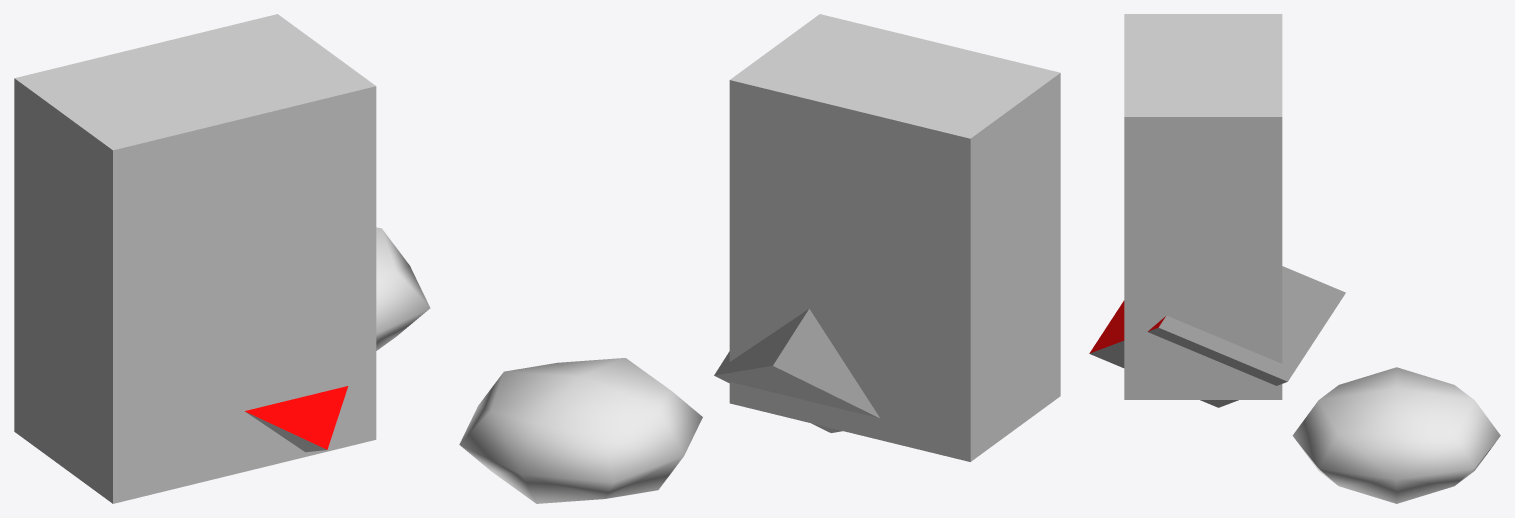
File: test.bin.fbx
The picture shows the model from 3 angles, left to right: view 1: azimuth 30°, elevation 25°; view 2: azimuth 150°, elevation 25°; view 3: azimuth 270°, elevation 25°; orthographic projection. The views are drawn at different scales.
Parts seen in each view (by area): view 1: Box001, Box003, Box002; view 2: Box001, Box003, Box002; view 3: Box001, Box003, Box002.
Part boxes in pixels (bbox=[...]): Box001: bbox=[14, 14, 376, 503]; Box003: bbox=[376, 227, 430, 350]; Box002: bbox=[245, 386, 348, 452]; Box001: bbox=[729, 14, 1060, 461]; Box003: bbox=[459, 358, 702, 503]; Box002: bbox=[714, 308, 880, 432]; Box001: bbox=[1124, 14, 1282, 399]; Box003: bbox=[1292, 367, 1500, 503]; Box002: bbox=[1089, 266, 1345, 407].
Size of the model in its own units: 4.15 by 3.5 by 3.95.
